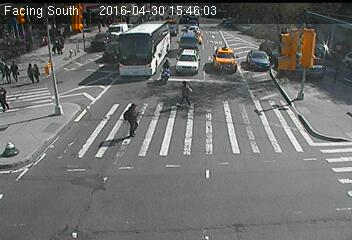neg: (296, 162, 328, 205), (232, 190, 258, 225), (154, 54, 177, 85), (125, 160, 148, 191), (42, 114, 63, 142), (187, 185, 208, 212), (97, 162, 117, 189), (251, 96, 270, 121), (197, 47, 215, 71), (188, 11, 206, 35), (34, 151, 51, 174), (239, 17, 256, 40), (57, 92, 74, 114), (85, 46, 101, 68), (100, 41, 116, 62), (133, 13, 149, 34), (224, 107, 239, 127), (11, 14, 26, 33), (275, 156, 289, 176), (228, 54, 242, 72), (303, 62, 317, 80), (191, 154, 205, 172), (293, 124, 307, 142), (252, 48, 265, 66), (75, 74, 87, 90), (246, 136, 257, 151), (293, 85, 303, 98), (286, 48, 295, 60), (71, 197, 79, 208)
pos: (111, 96, 149, 146), (1, 57, 24, 89), (173, 80, 195, 110), (25, 60, 45, 86), (1, 63, 18, 89), (50, 32, 68, 56), (22, 60, 40, 83)
